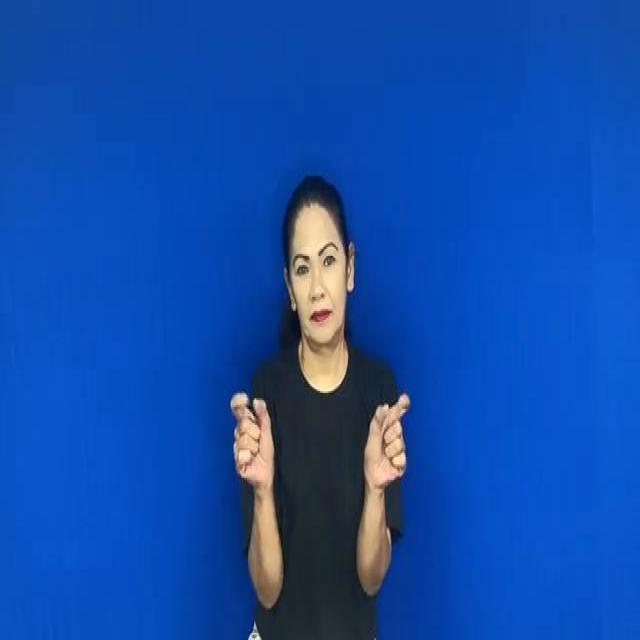crab: (212, 371, 420, 502)
